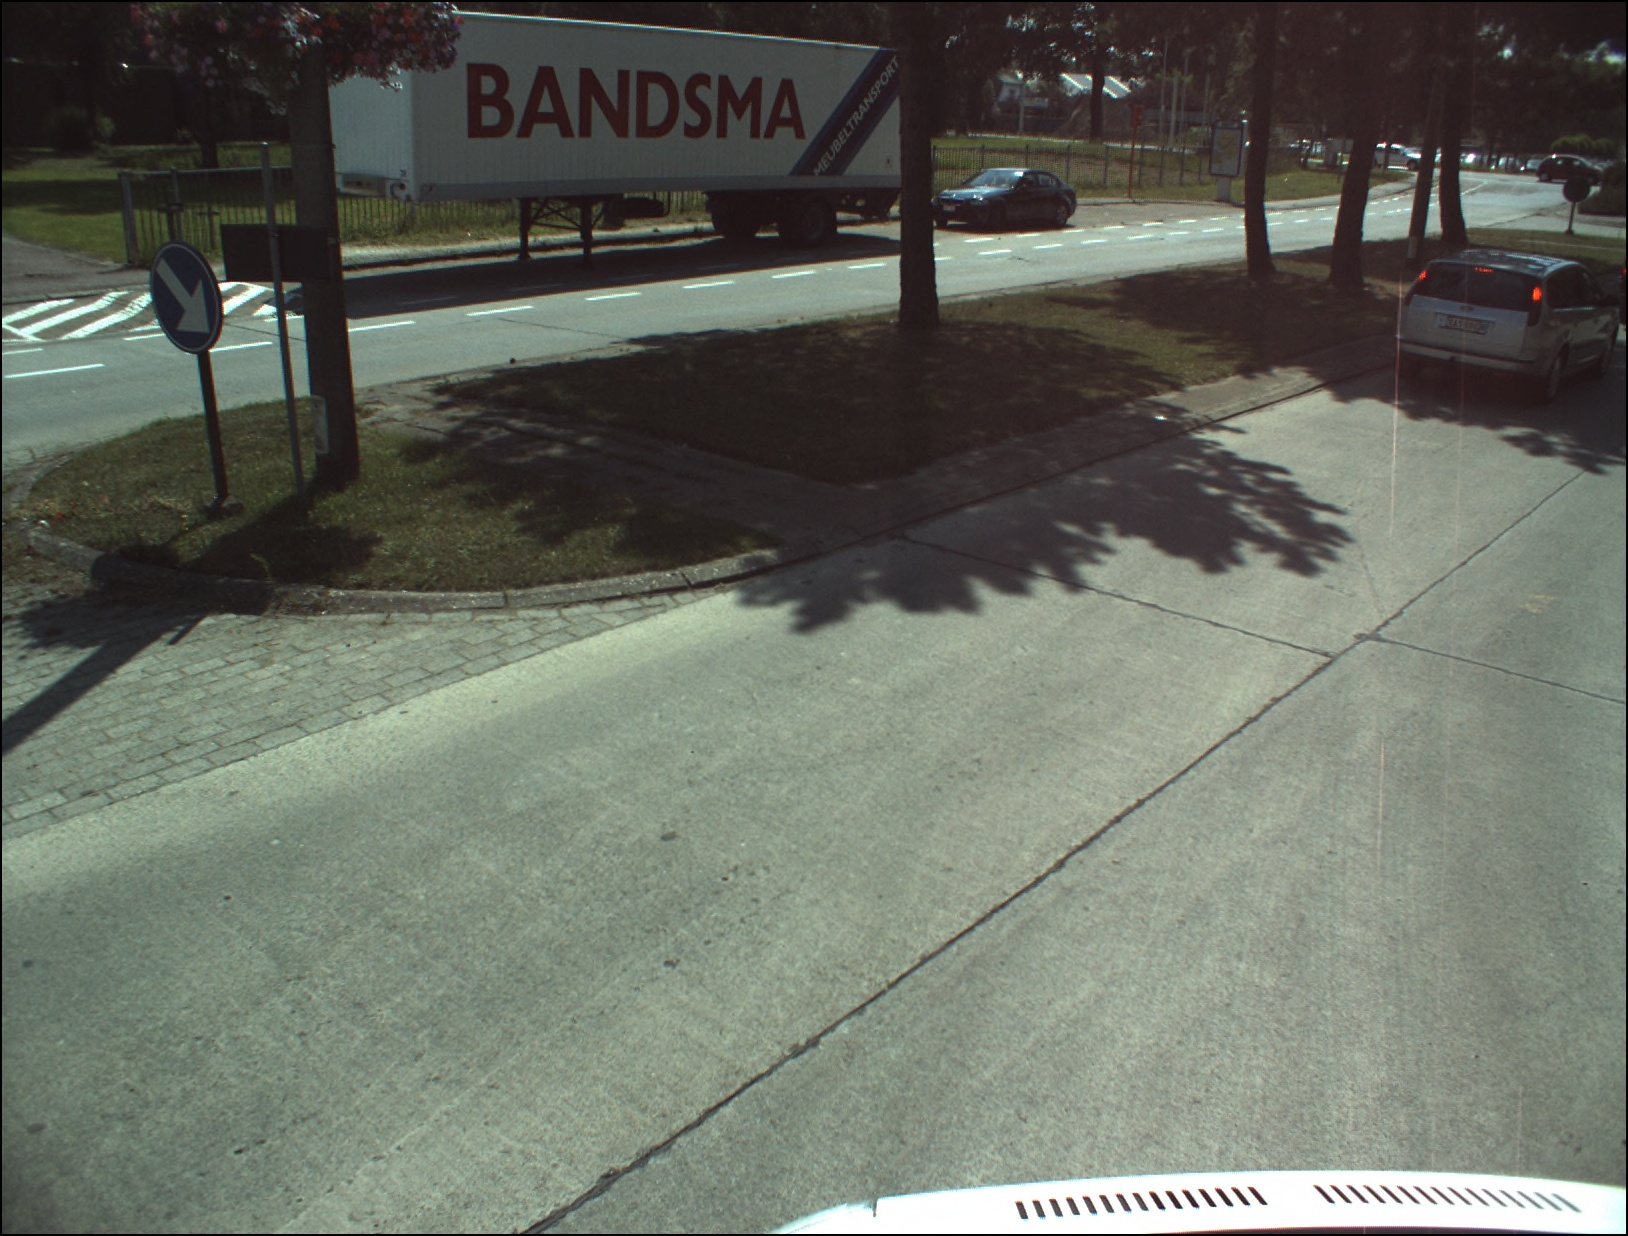passright: (149, 241, 221, 352)
